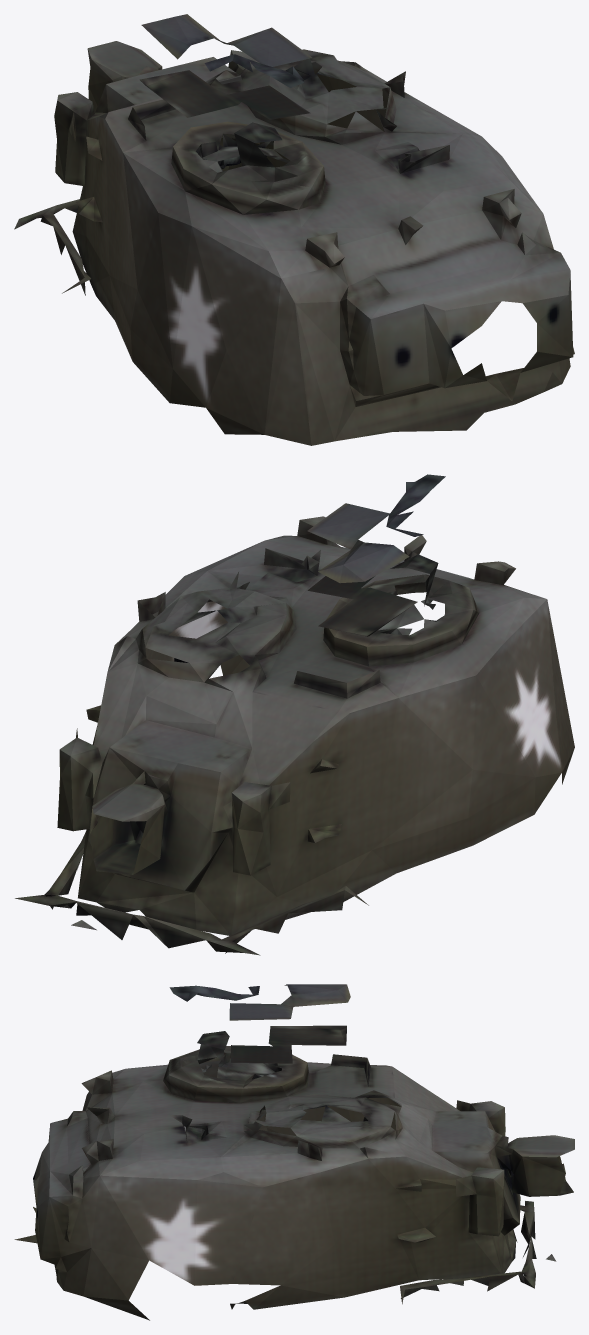
The model's file is sherman_turret.obj.
3 views of the same model, one above another, from view 1: azimuth 30°, elevation 25°; view 2: azimuth 150°, elevation 25°; view 3: azimuth 270°, elevation 25° (orthographic). The views are drawn at different scales.
Parts seen in each view (by area): view 1: sherman_turret; view 2: sherman_turret; view 3: sherman_turret.
Part boxes in pixels (left/top/right/bottom): sherman_turret: left=14, top=14, right=574, bottom=445; sherman_turret: left=15, top=474, right=574, bottom=955; sherman_turret: left=14, top=984, right=574, bottom=1320.
Bounding box in the file's own units: 1.83 × 1.52 × 3.2.
Materials: 1 (1 with a texture image).
